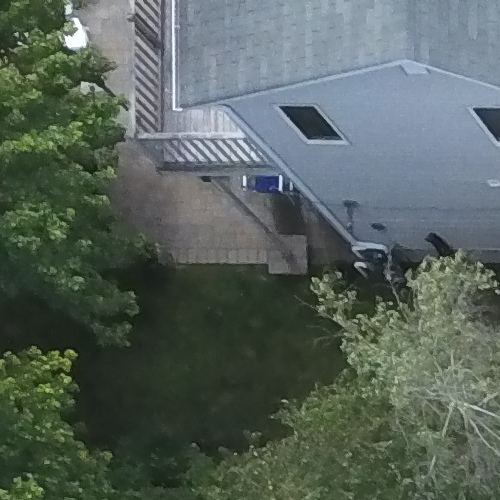porch: (115, 1, 273, 194)
